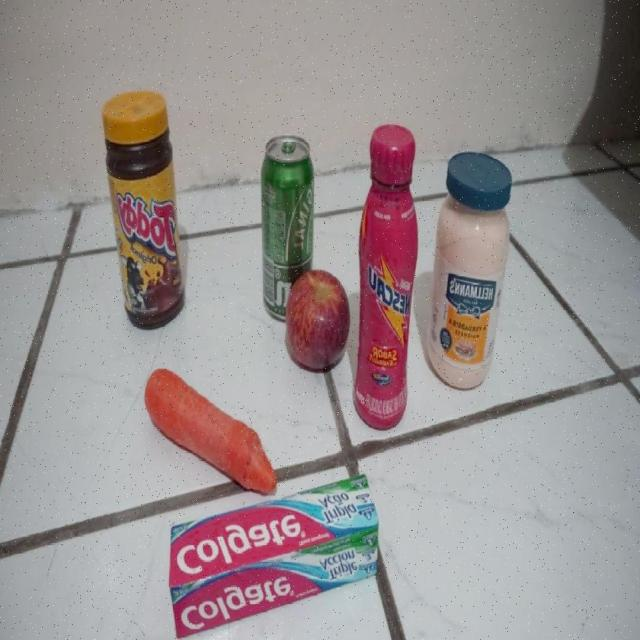Apple: (284, 270, 349, 373)
BeerCan: (259, 134, 314, 322)
Carrot: (142, 365, 276, 496)
ChocolateMilk: (349, 126, 420, 430)
ChocolatePowder: (101, 90, 185, 330)
Mayonnaise: (425, 152, 513, 390)
Toothpaste: (168, 473, 380, 640)
